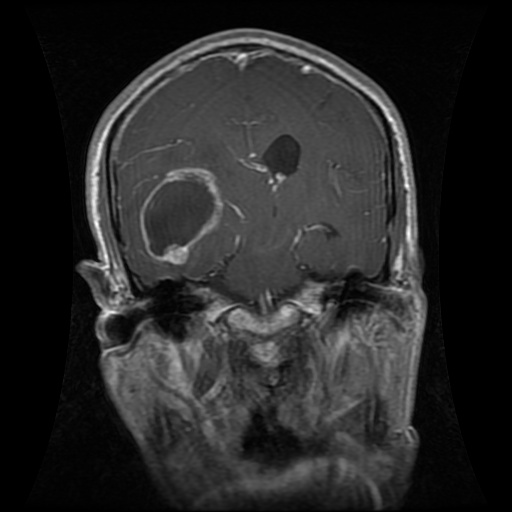glioma: (139, 166, 223, 265)
